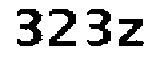2: (46, 7, 81, 53)
3: (83, 7, 114, 51), (14, 7, 44, 51)
z: (115, 15, 153, 55)
